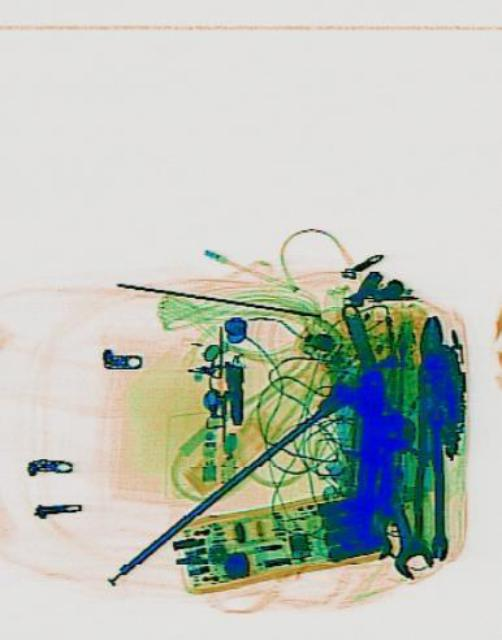Wrench: (321, 290, 420, 466), (364, 477, 433, 583)
